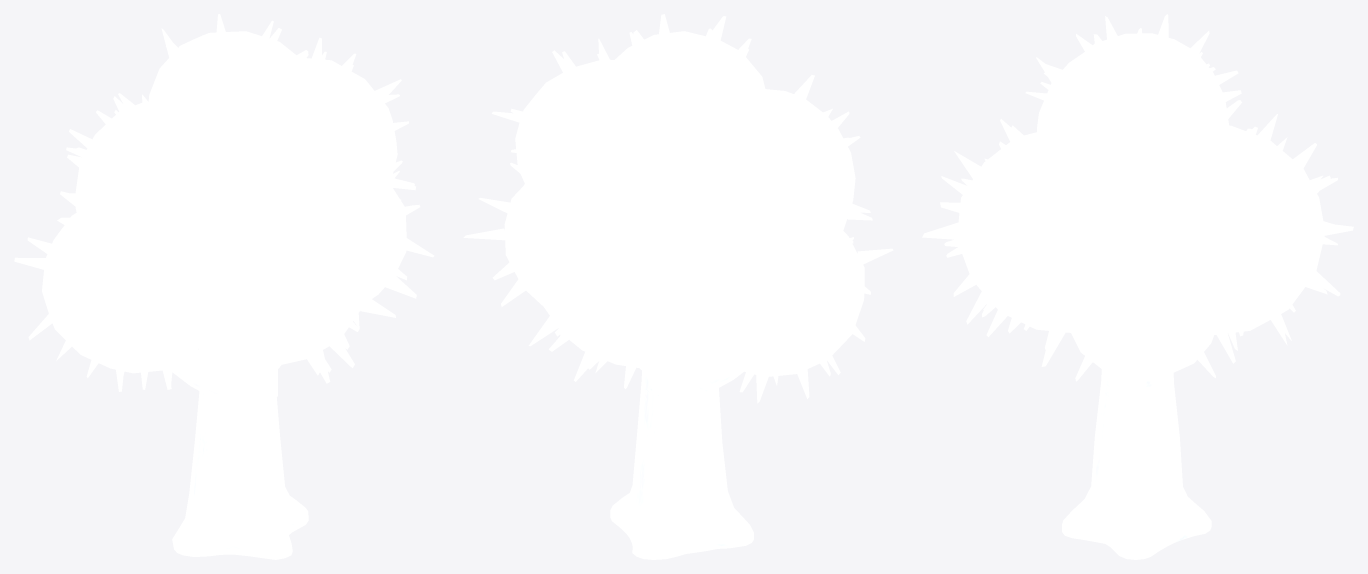
File: arvore-cristal.glb
3 renders of one model, left to right at view 1: azimuth 30°, elevation 25°; view 2: azimuth 150°, elevation 25°; view 3: azimuth 270°, elevation 25°, orthographic.
Visible parts, largest first — view 1: mesh_node; view 2: mesh_node; view 3: mesh_node.
Part boxes in pixels (x1,y1,x2,y2): mesh_node: (14, 14, 434, 559); mesh_node: (463, 14, 893, 559); mesh_node: (922, 14, 1353, 559).
Bounding box in the file's own units: 0.8145 × 0.9961 × 0.8008.
Materials: 1 (1 with a texture image).
